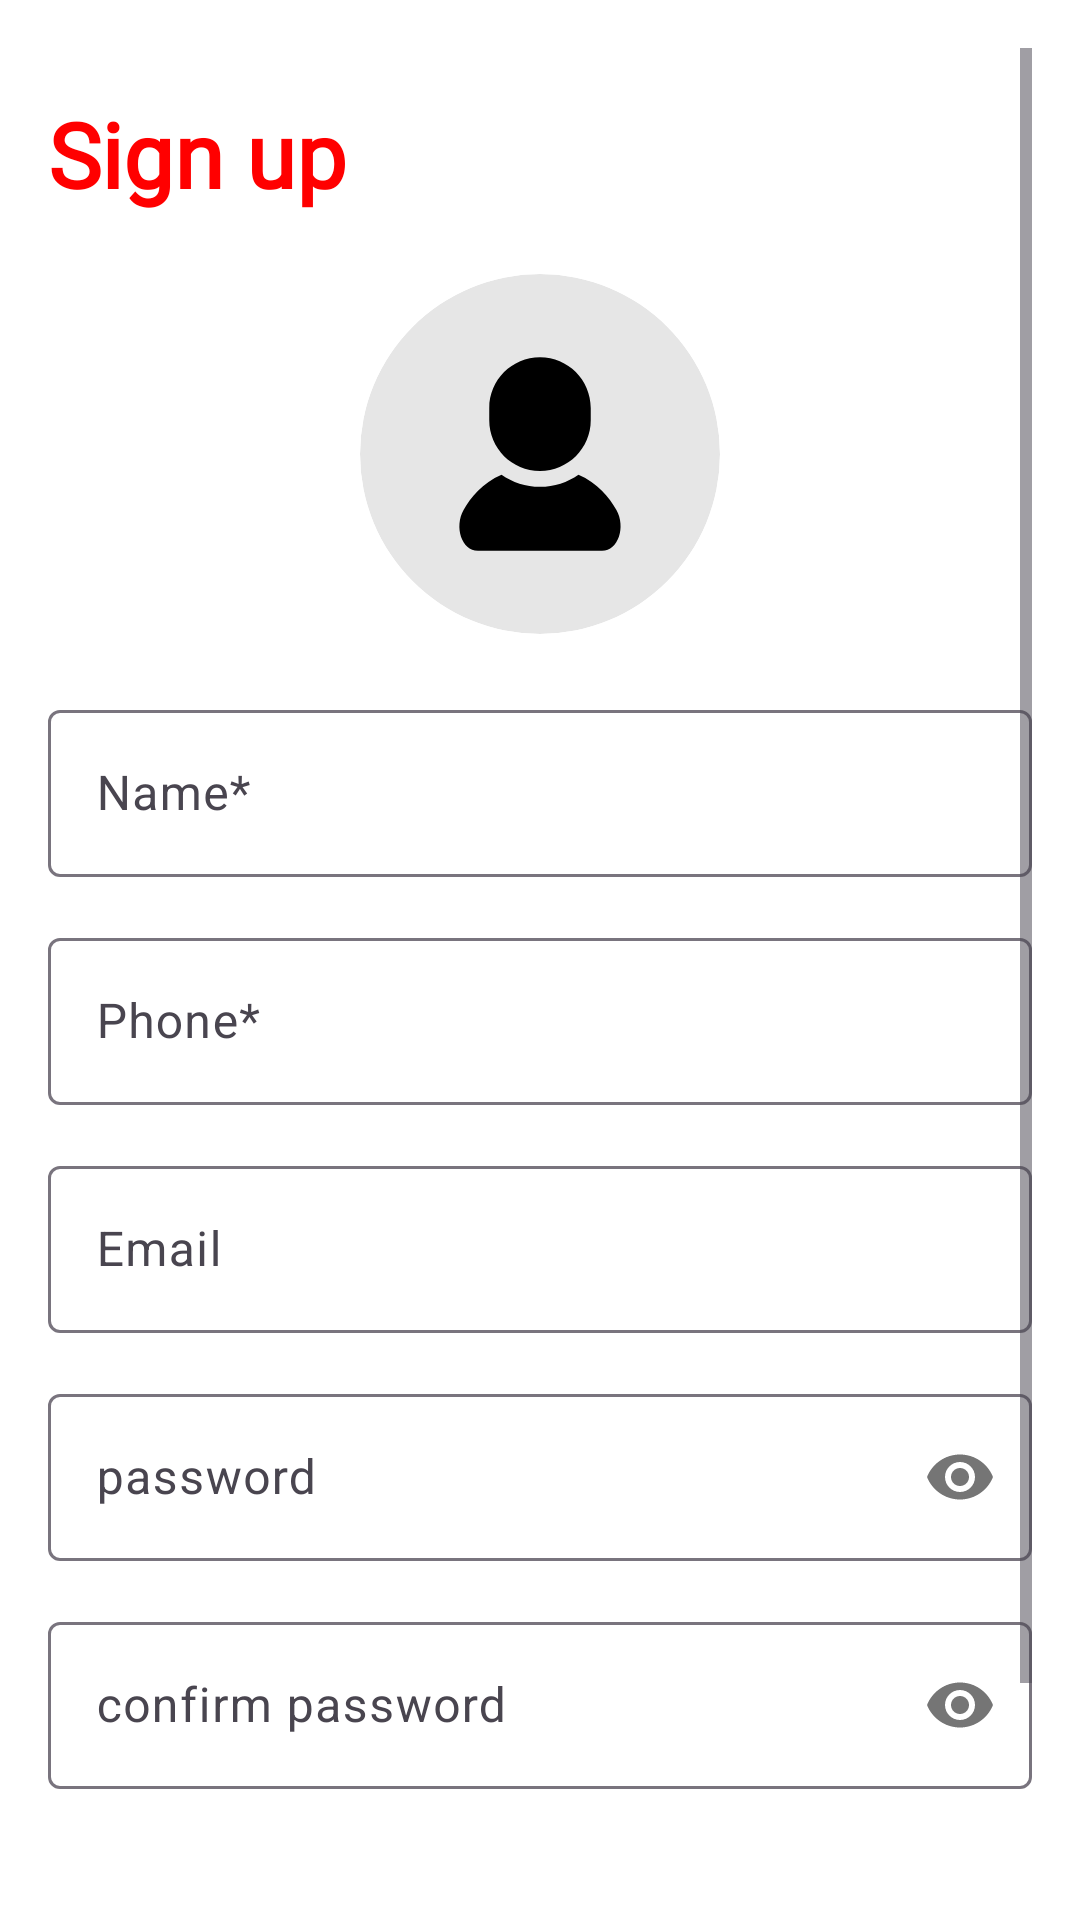

Icon click points for this 1080x1920 phone screenshot, format [x,y]:
person: [540,454]
